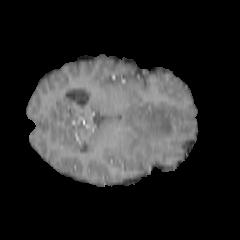glioma: (125, 109, 193, 157)
